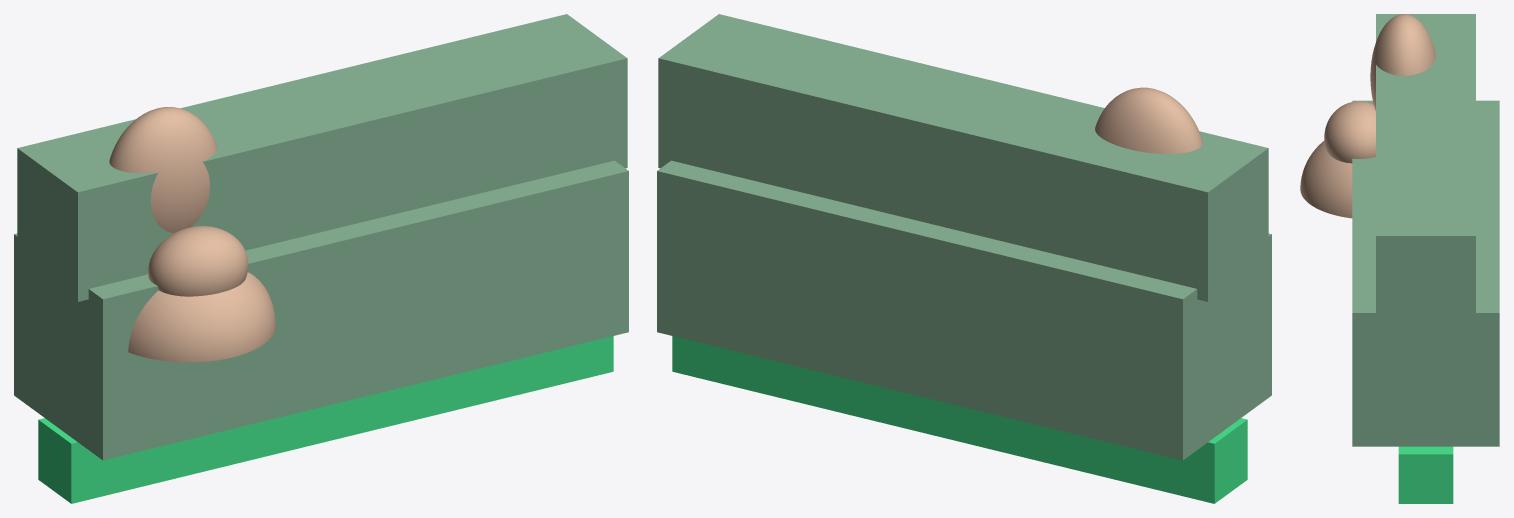
The model's file is pioneer park scene 1 sunset.glb.
3 renders of one model, left to right at view 1: azimuth 30°, elevation 25°; view 2: azimuth 150°, elevation 25°; view 3: azimuth 270°, elevation 25°, orthographic. The views are drawn at different scales.
Parts seen in each view (by area): view 1: mesh_id29, mesh_id31, mesh_id27, mesh_id33, mesh_id37, mesh_id35; view 2: mesh_id29, mesh_id31, mesh_id27, mesh_id37; view 3: mesh_id31, mesh_id29, mesh_id27, mesh_id37, mesh_id33, mesh_id35.
Part boxes in pixels (bbox=[...]): mesh_id29: bbox=[14, 160, 628, 460]; mesh_id31: bbox=[17, 14, 627, 301]; mesh_id27: bbox=[38, 336, 613, 503]; mesh_id33: bbox=[128, 272, 275, 362]; mesh_id37: bbox=[109, 107, 217, 232]; mesh_id35: bbox=[148, 226, 248, 296]; mesh_id29: bbox=[657, 160, 1271, 460]; mesh_id31: bbox=[658, 14, 1268, 301]; mesh_id27: bbox=[672, 336, 1247, 503]; mesh_id37: bbox=[1095, 87, 1202, 154]; mesh_id31: bbox=[1376, 14, 1475, 326]; mesh_id29: bbox=[1352, 100, 1499, 446]; mesh_id27: bbox=[1398, 446, 1453, 503]; mesh_id37: bbox=[1370, 14, 1435, 110]; mesh_id33: bbox=[1300, 141, 1352, 218]; mesh_id35: bbox=[1324, 101, 1375, 163].
Bounding box in the file's own units: 3.71 × 2.38 × 1.41.
